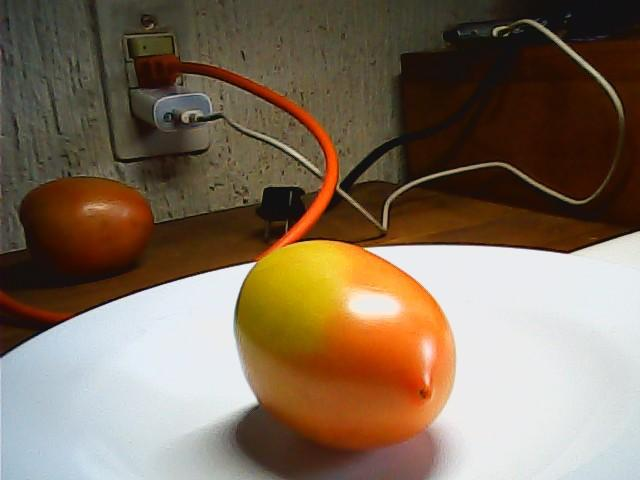verde: (227, 240, 457, 443)
